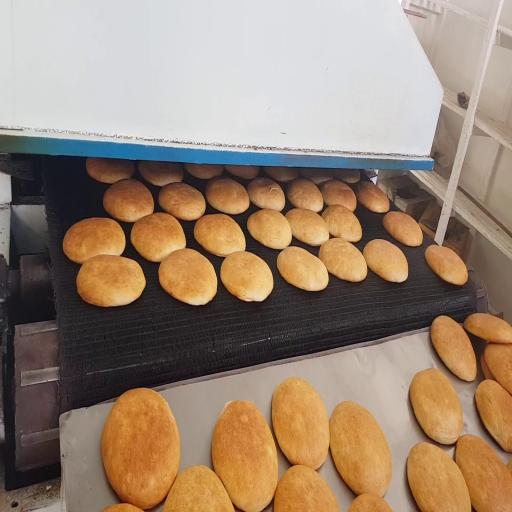bread: (102, 389, 179, 509), (212, 401, 278, 511), (330, 402, 391, 496), (272, 378, 329, 469), (407, 442, 471, 511), (456, 435, 511, 511), (410, 369, 463, 444), (76, 255, 145, 306), (159, 249, 217, 305), (163, 466, 234, 511), (431, 316, 477, 381), (274, 466, 339, 511), (63, 218, 125, 264), (220, 251, 273, 301), (131, 213, 185, 262), (475, 380, 511, 452), (277, 247, 328, 291), (103, 179, 154, 222), (194, 214, 245, 256), (319, 238, 367, 282), (363, 239, 408, 282), (247, 209, 291, 249), (159, 183, 205, 220), (426, 245, 467, 285), (286, 209, 329, 246), (206, 177, 249, 214), (322, 205, 362, 242), (464, 313, 511, 344), (484, 344, 511, 394), (383, 212, 422, 246), (247, 177, 285, 211), (86, 157, 134, 183), (287, 178, 323, 212), (139, 161, 183, 186), (321, 180, 356, 211), (357, 182, 389, 212), (348, 494, 392, 511), (184, 164, 223, 179), (299, 168, 332, 184), (264, 167, 298, 182), (224, 165, 259, 179), (481, 352, 495, 380), (334, 169, 360, 183), (102, 504, 142, 511), (507, 458, 511, 475)
